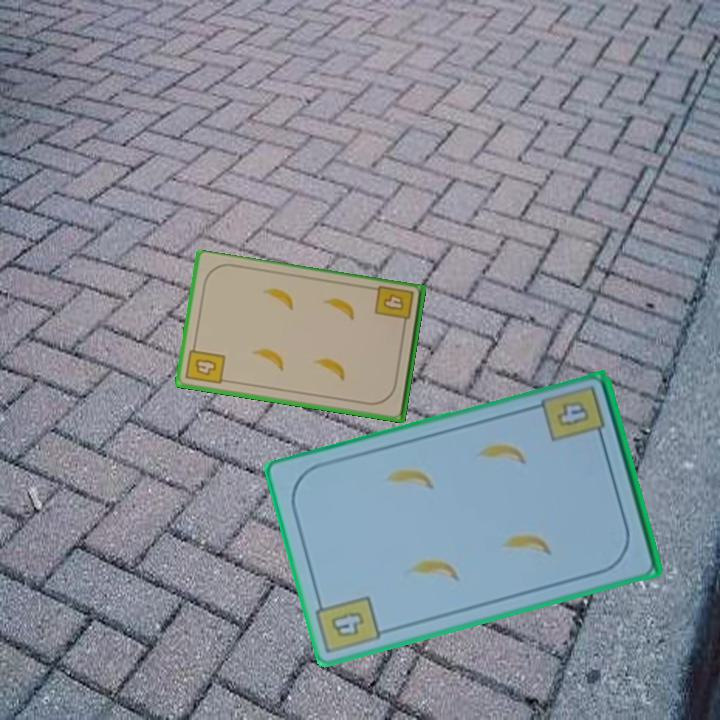4b: (312, 592, 385, 657), (371, 283, 417, 332), (182, 340, 228, 387), (552, 397, 593, 430)
